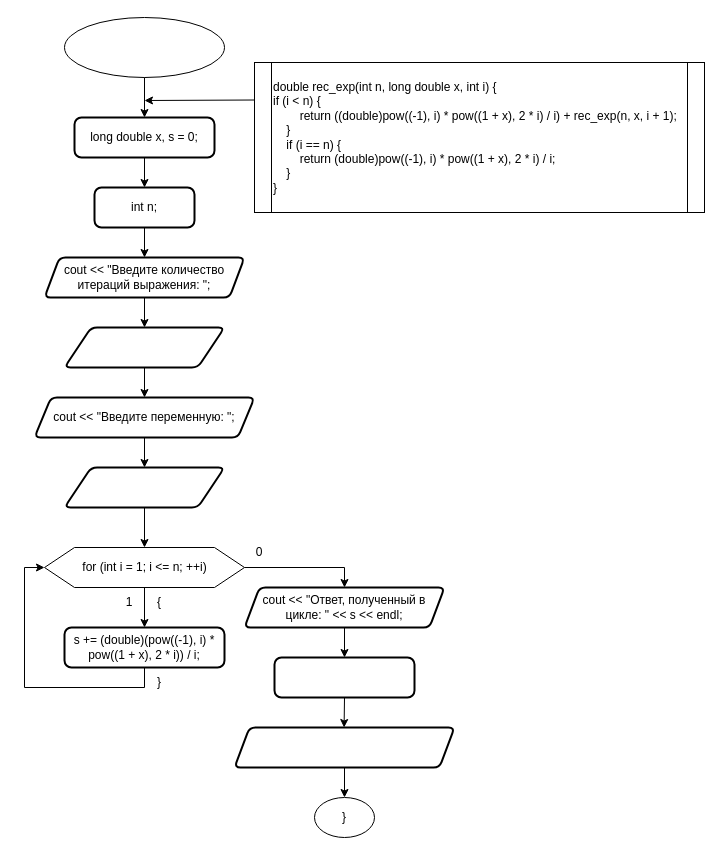
Some shapes in this 722 by 855 pixel diagram are drawn without their labels. The shapes that lost their labels are listed below. From the top down, each one's centre as x and y in pixels, then its label:
pixel 144 47: void funk_expression(){
pixel 144 347: cin >> n;
pixel 144 487: cin >> x;
pixel 344 677: s = rec_exp(n, x, 1);
pixel 344 747: cout << "Ответ, полученный в рекурсии: " << s << endl;
